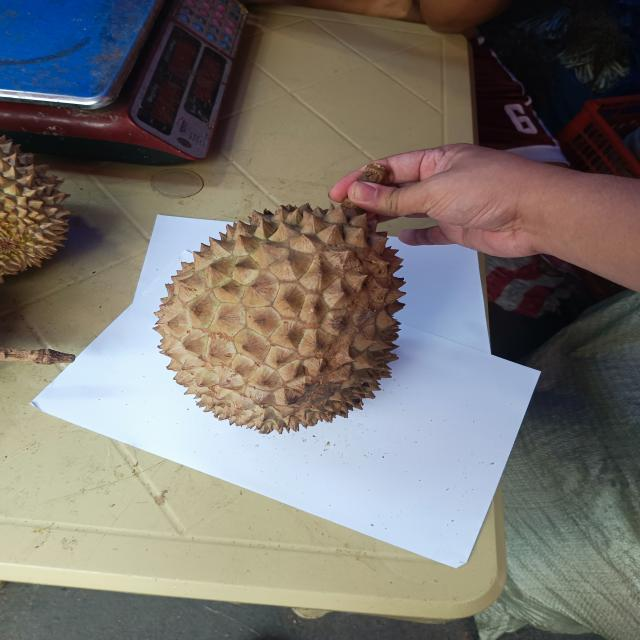mature: (151, 194, 405, 433)
